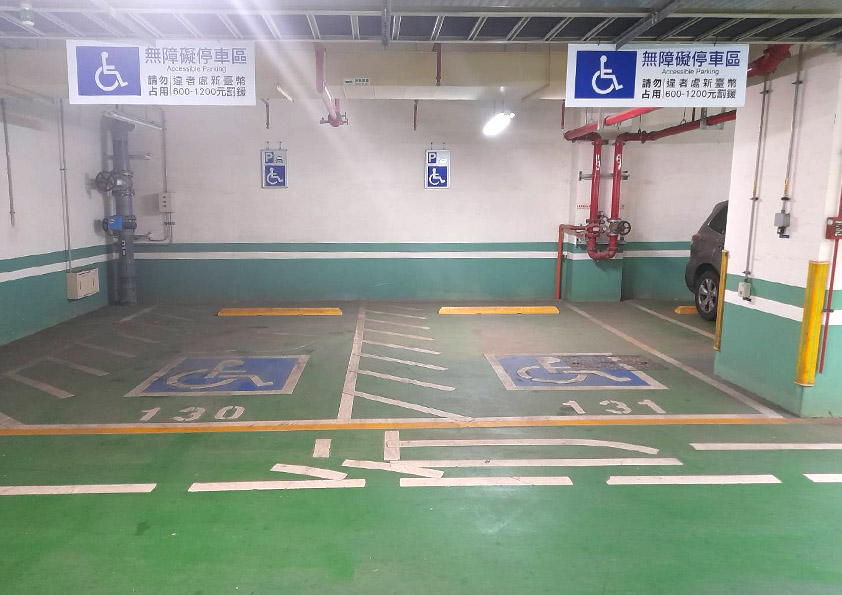car: (683, 192, 726, 328)
